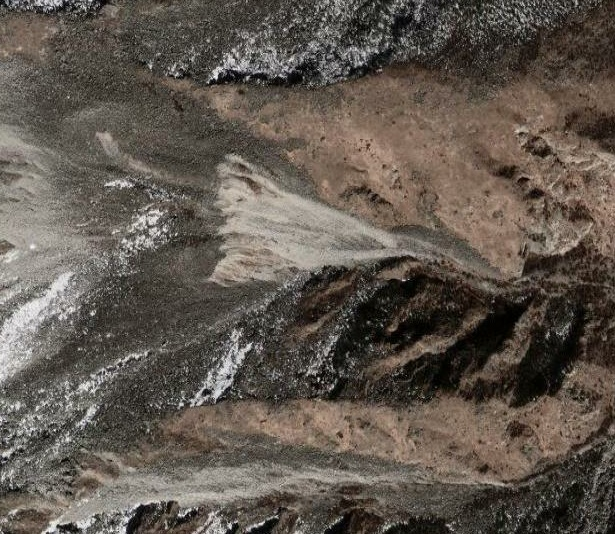slope: (210, 151, 451, 280), (55, 458, 352, 524)
